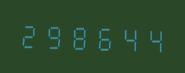eight: (68, 19, 92, 52)
four: (118, 20, 142, 54), (143, 21, 167, 55)
nine: (42, 18, 66, 52)
six: (93, 20, 117, 53)
two: (17, 17, 41, 51)
